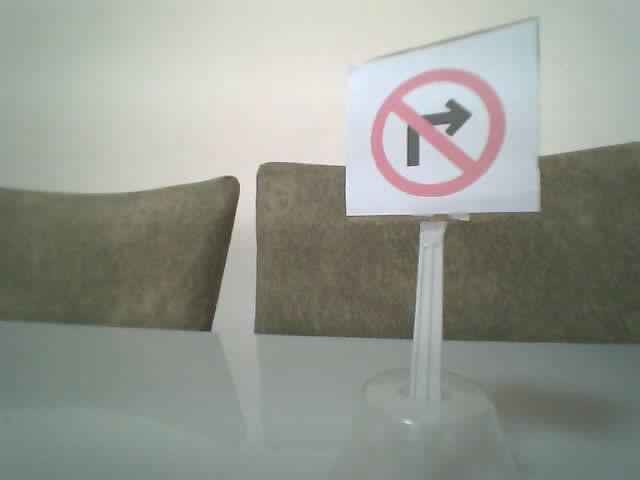R-4b_proibido-direita: (370, 68, 502, 197)
